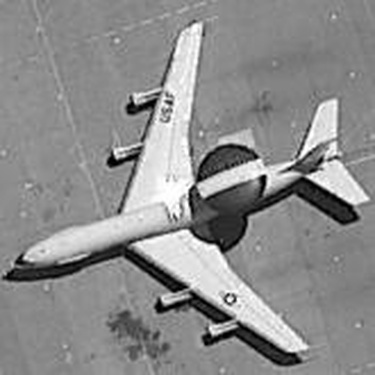airplane: (1, 11, 370, 369)
